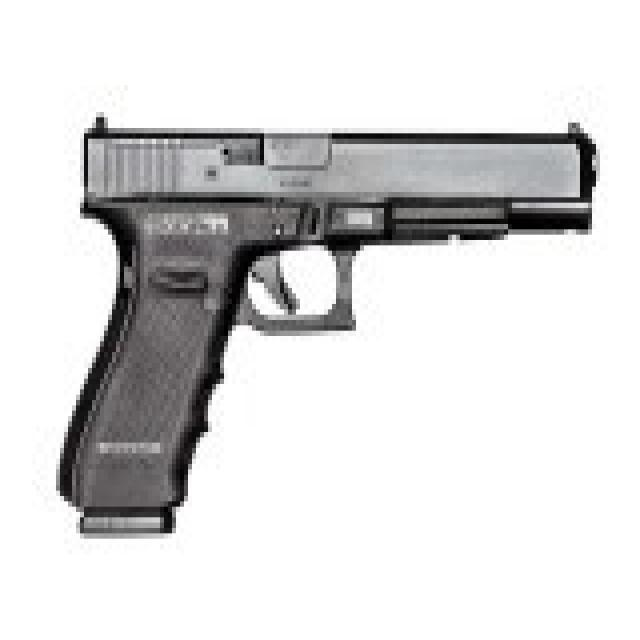Gun: (62, 90, 608, 538)
